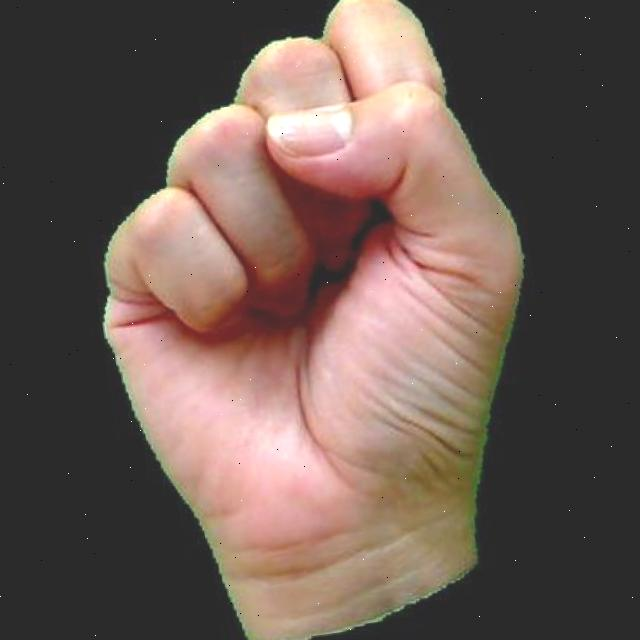s: (47, 0, 578, 640)
